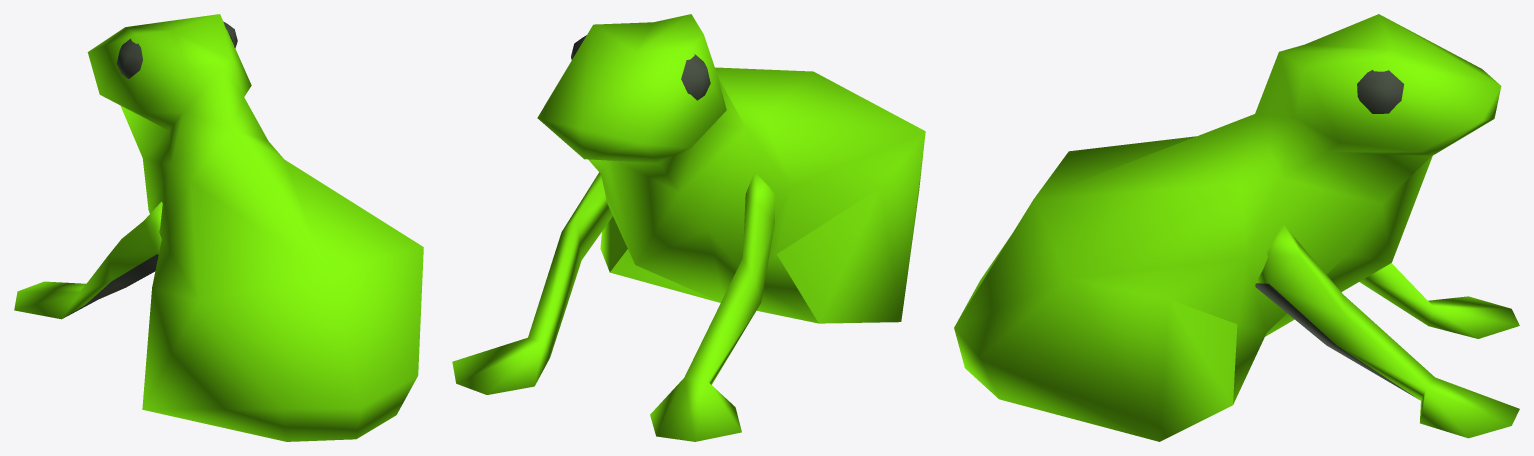
Rendered from objFrog.fbx.
3 views of the same model, side by side, from view 1: azimuth 30°, elevation 25°; view 2: azimuth 150°, elevation 25°; view 3: azimuth 270°, elevation 25° (orthographic). The views are drawn at different scales.
Visible parts, largest first — view 1: Frog; view 2: Frog; view 3: Frog.
Boxes of the visible parts, x1,y1,x2,y2 form: Frog: [14, 14, 423, 441]; Frog: [452, 14, 925, 441]; Frog: [954, 14, 1519, 441].
Size of the model in its own units: 47.88 by 77.63 by 50.01.
